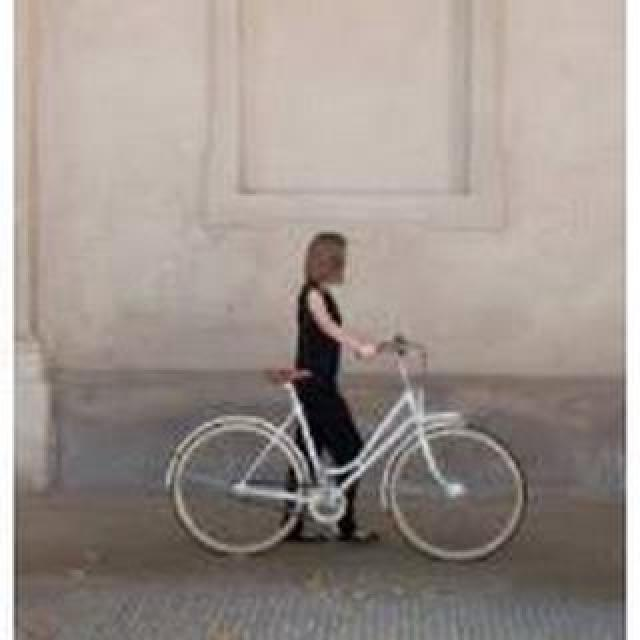MC-Bike: (292, 232, 370, 488)
Person: (164, 331, 530, 565)
